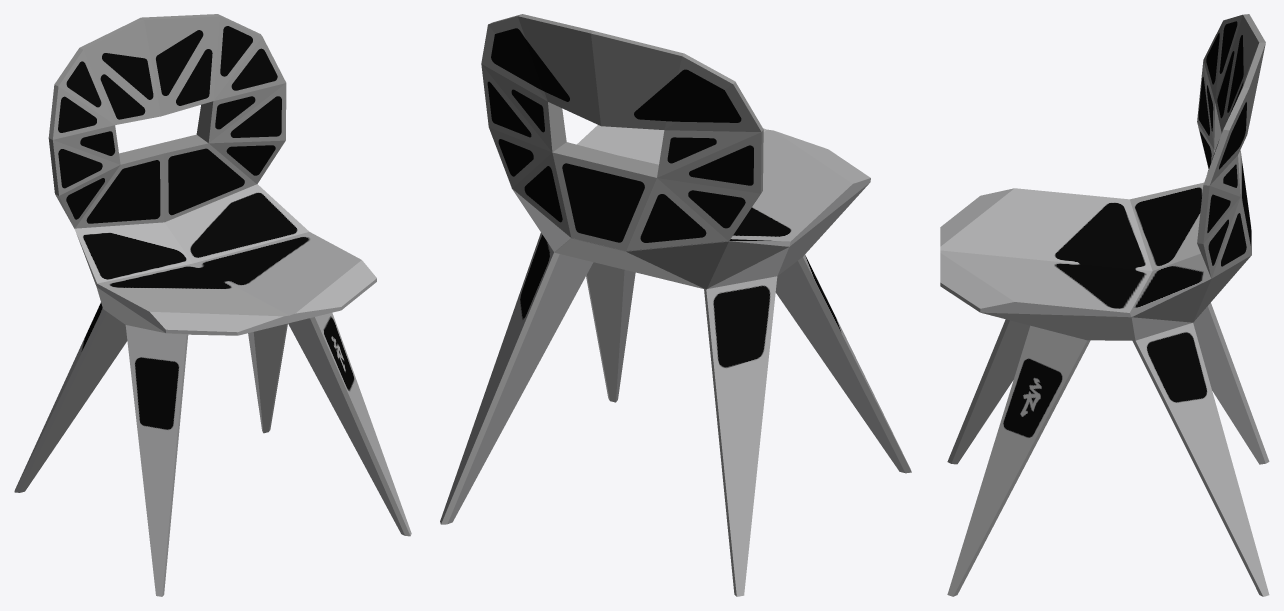
3 views of the same model, side by side, from view 1: azimuth 30°, elevation 25°; view 2: azimuth 150°, elevation 25°; view 3: azimuth 270°, elevation 25° (orthographic). The views are drawn at different scales.
Visible parts, largest first — view 1: 屁股.005, Object_57, Object_82, Object_77, Object_83, Object_79, Object_84, Object_78, Object_74, Object_71, Object_80, Object_73 (+6 smaller); view 2: 屁股.005, Object_57, Object_66, Object_58, Object_59, Object_67, Object_60, Object_64, Object_65, Object_62, Object_61, Object_68; view 3: 屁股.005, Object_57, Object_65, Object_59, Object_84, Object_62, Object_75.
Part boxes in pixels (left/top/right/bottom): 屁股.005: left=14, top=184, right=411, bottom=596; Object_57: left=48, top=14, right=286, bottom=228; Object_82: left=168, top=148, right=244, bottom=215; Object_77: left=86, top=160, right=160, bottom=223; Object_83: left=156, top=30, right=203, bottom=95; Object_79: left=230, top=96, right=281, bottom=137; Object_84: left=102, top=53, right=153, bottom=99; Object_78: left=176, top=49, right=212, bottom=105; Object_74: left=58, top=149, right=102, bottom=188; Object_71: left=231, top=48, right=277, bottom=90; Object_80: left=220, top=26, right=252, bottom=76; Object_73: left=100, top=74, right=145, bottom=119; 屁股.005: left=440, top=125, right=911, bottom=596; Object_57: left=481, top=14, right=763, bottom=289; Object_66: left=562, top=163, right=644, bottom=242; Object_58: left=634, top=69, right=741, bottom=122; Object_59: left=491, top=28, right=569, bottom=101; Object_67: left=640, top=194, right=706, bottom=242; Object_60: left=689, top=145, right=753, bottom=185; Object_64: left=688, top=190, right=745, bottom=228; Object_65: left=524, top=166, right=562, bottom=222; Object_62: left=487, top=81, right=531, bottom=137; Object_61: left=667, top=137, right=716, bottom=163; Object_68: left=498, top=139, right=533, bottom=176; 屁股.005: left=940, top=182, right=1269, bottom=596; Object_57: left=1194, top=14, right=1265, bottom=321; Object_65: left=1221, top=213, right=1246, bottom=266; Object_59: left=1219, top=102, right=1246, bottom=169; Object_84: left=1227, top=35, right=1243, bottom=112; Object_62: left=1207, top=194, right=1230, bottom=232; Object_75: left=1219, top=21, right=1237, bottom=73.
Size of the model in its own units: 1.86 by 3.07 by 1.88.
Materials: 3 (2 with a texture image).
